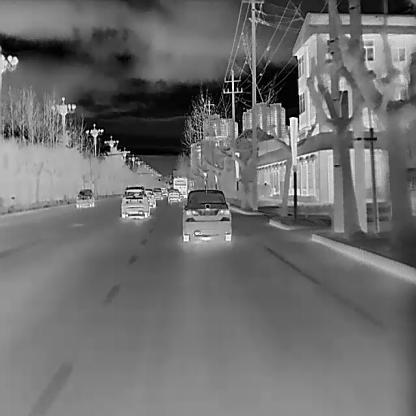car: (182, 189, 232, 242), (121, 185, 150, 218), (75, 189, 94, 207), (172, 177, 187, 199), (144, 188, 157, 208), (167, 188, 180, 203), (151, 187, 163, 201)
